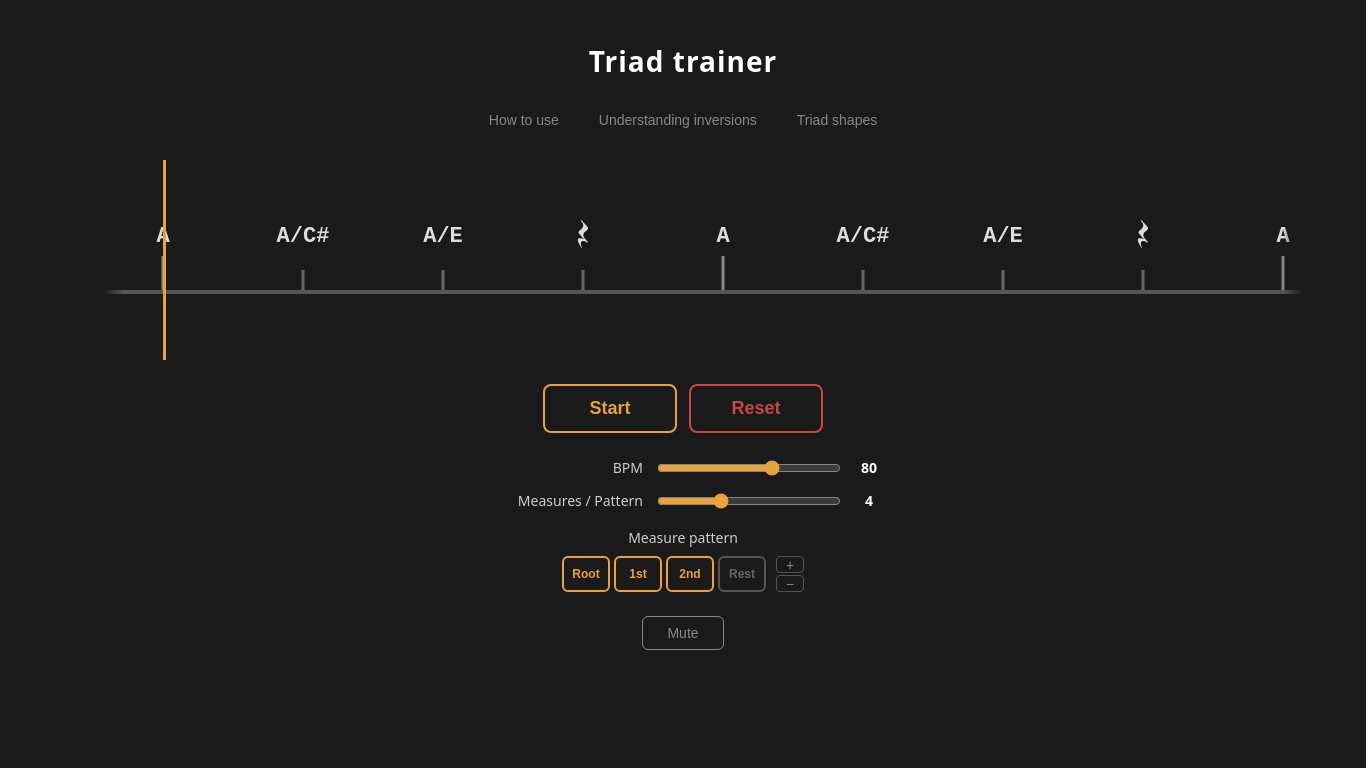
Test case: App › shows Pause and Stop buttons after clicking Start
The width and height of the screenshot is (1366, 768).
Click the button "Start" at [610, 408], box [543,384,677,433]
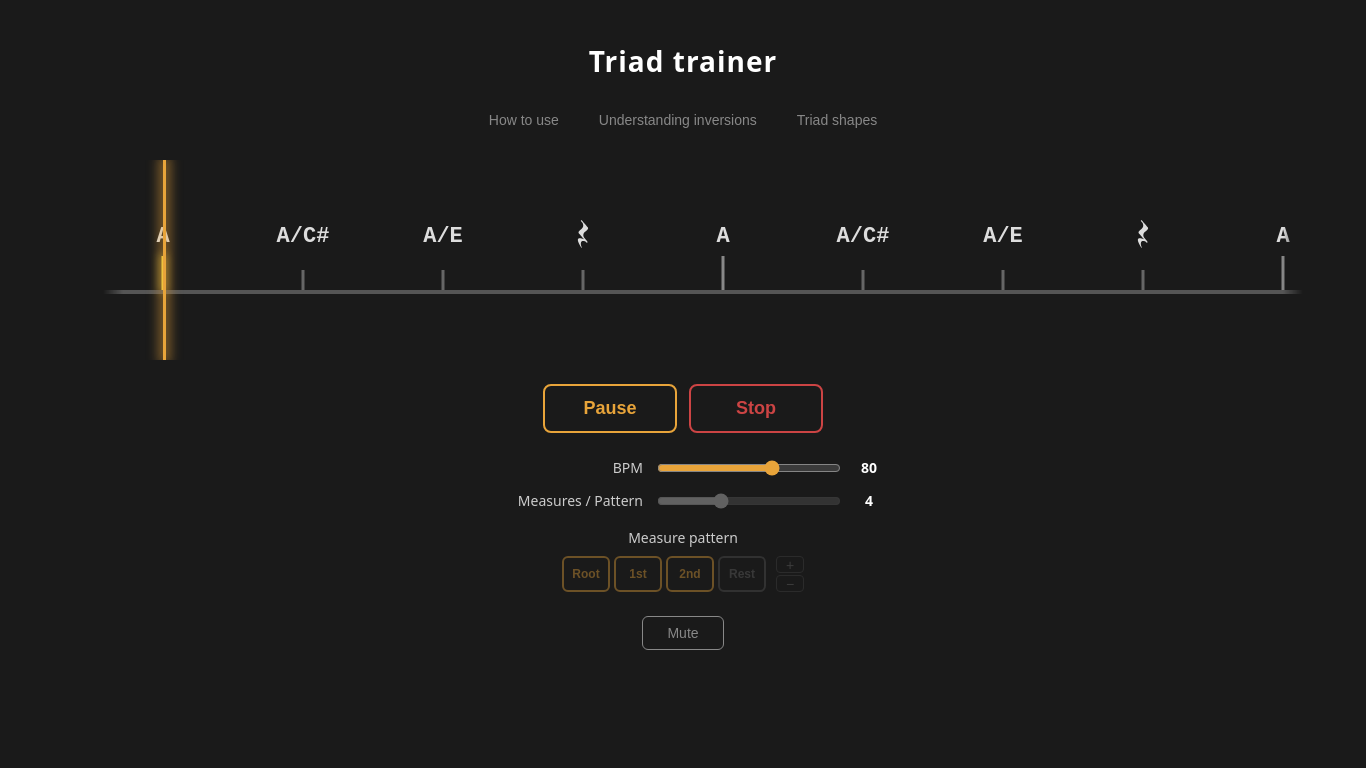
Now the button "Pause" is shown, box [543,384,677,433]
Now the button "Stop" is shown, box [689,384,823,433]
